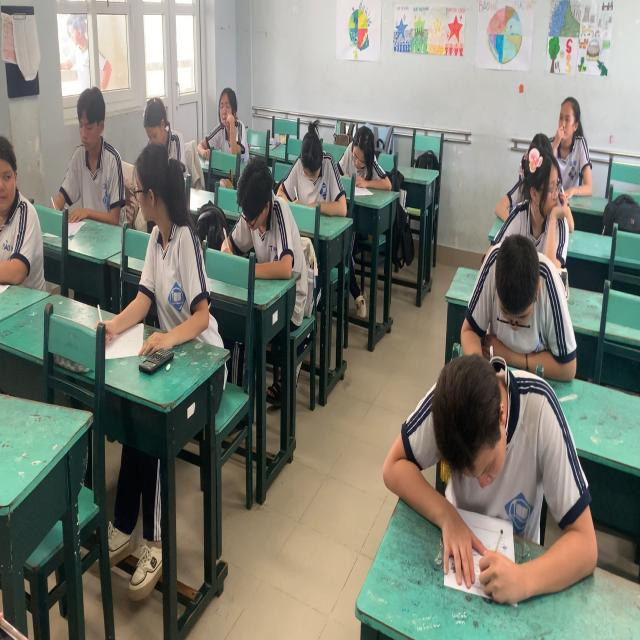cheating: (129, 146, 197, 308), (512, 153, 570, 243)
not_cheating: (400, 336, 540, 554), (475, 233, 547, 343), (236, 146, 290, 243), (66, 81, 105, 195), (288, 126, 337, 212), (335, 118, 381, 190), (125, 91, 177, 153), (548, 91, 591, 160), (208, 88, 238, 153)
